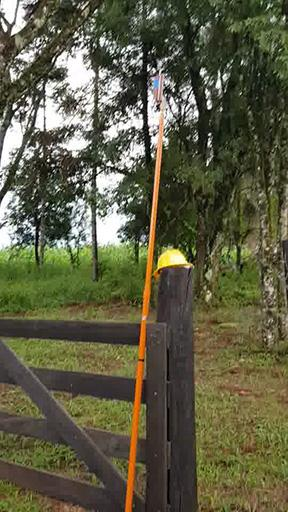Detector_Tensao_Contato: (151, 67, 166, 104)
Vara_Manobra: (122, 105, 168, 512)
